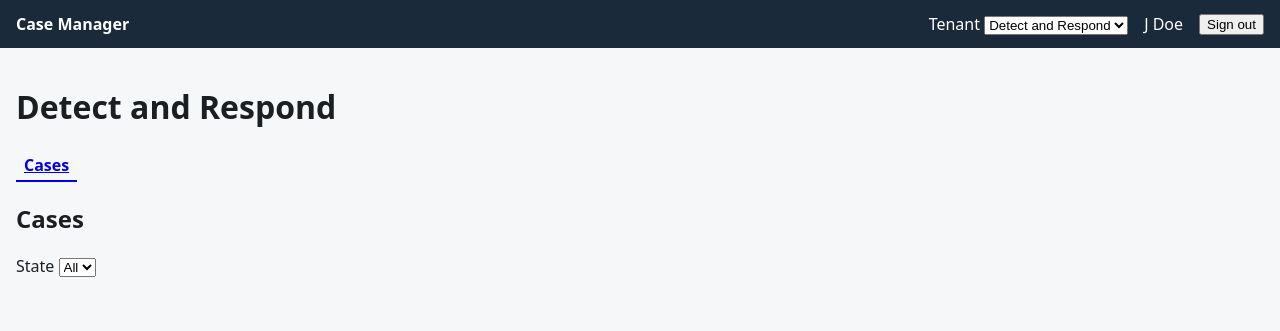
Test case: switches tenant and remembers the choice
The width and height of the screenshot is (1280, 331).
Select "Insider Threat" in the dropdown labelled "Tenant". click: (1056, 26)
box: [984,16,1128,35]
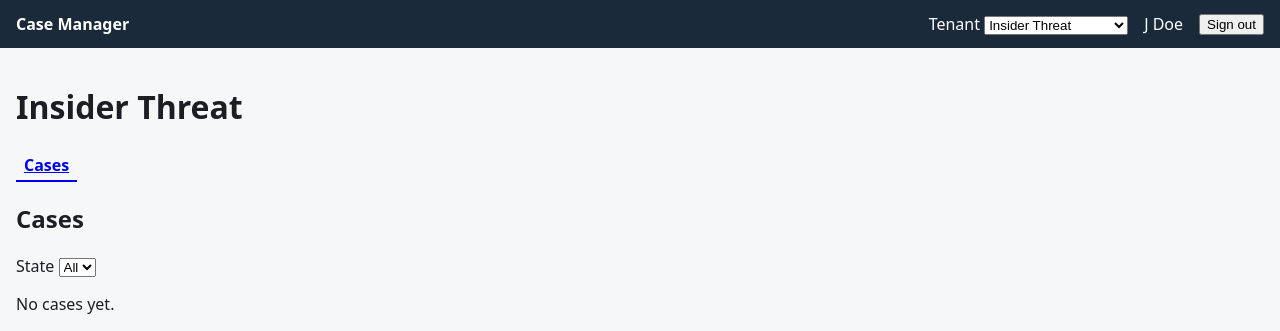
Result: the heading "Insider Threat" is shown at [16,85,243,128]
